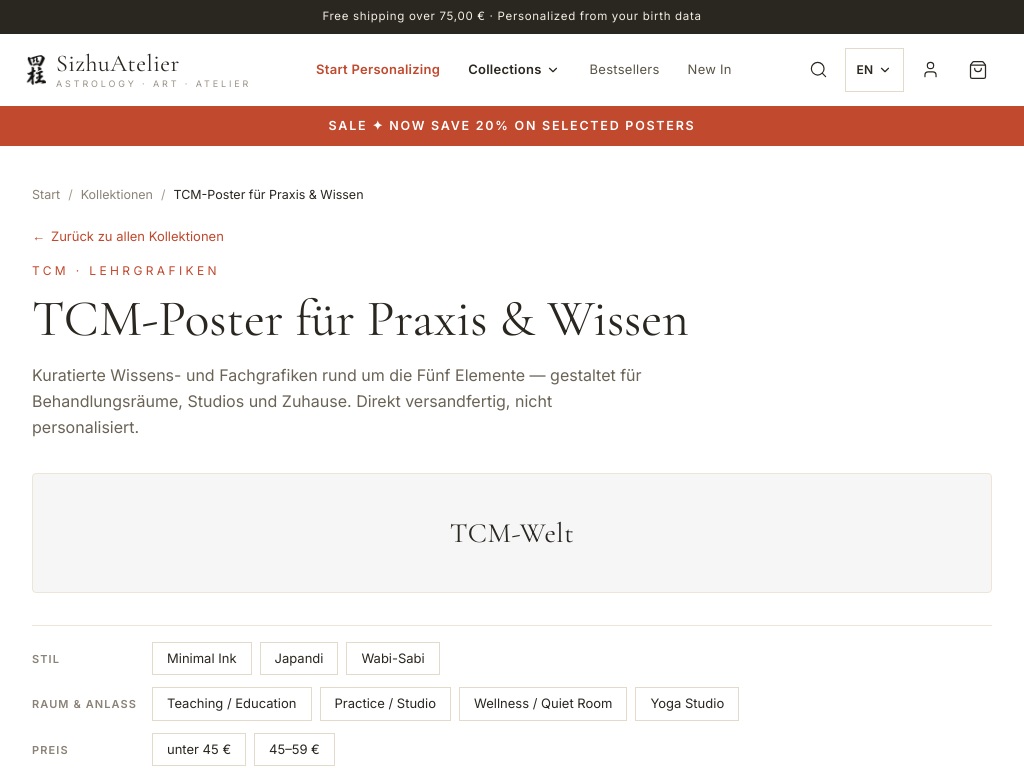
M12 / REQ-026 — a facet click narrows the grid (real filtering) › a zero-match filter shows an honest empty state, not the full unfiltered set
Expected: the element with test id "collection-filter-style" is shown, [32,642,440,675]
Batch #12 (tcm): Wabi-Sabi ist nur #14 (45 €) + Preis „unter 45 €" → 0 echte Treffer
Click the button "Wabi-Sabi": (393, 658) [346,642,440,675]
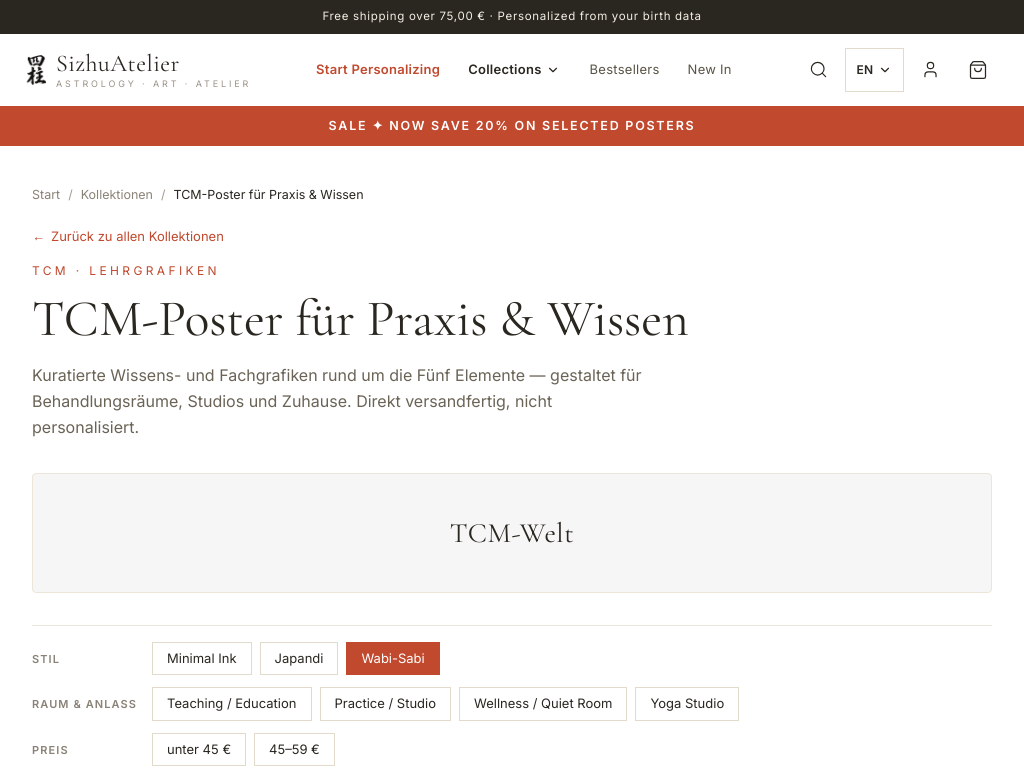
Click the button "unter 45 €": (199, 749) [152,733,246,766]
(page scrolled)
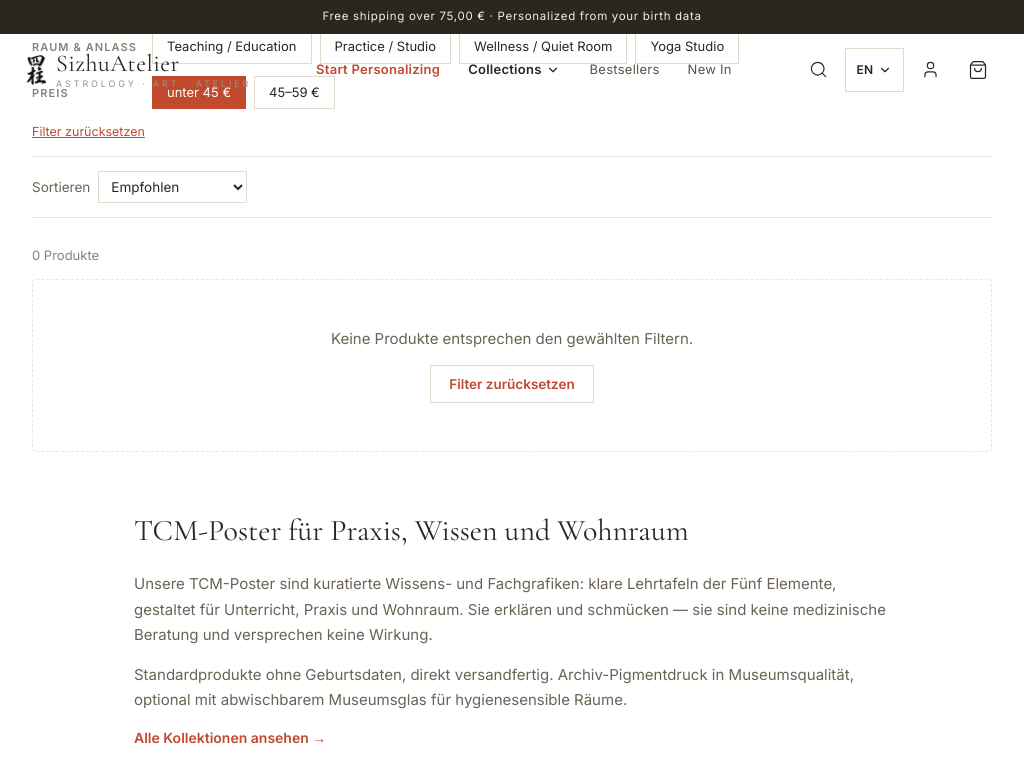
Result: the element with test id "collection-empty" is shown at [32,280,992,452]
reset restores the products
Click the button with test id "collection-empty-reset": (512, 384) [430,365,594,403]
(page scrolled)
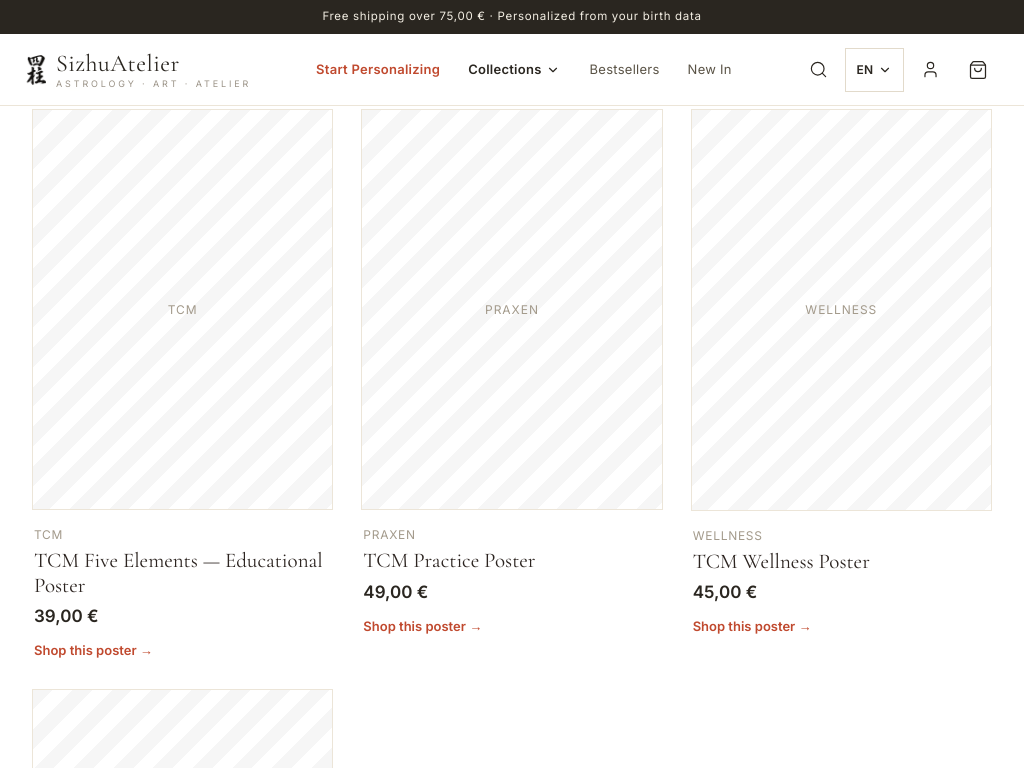
Result: the element with test id "collection-product-card" that starts with "TCM" is shown at [32,109,333,661]
